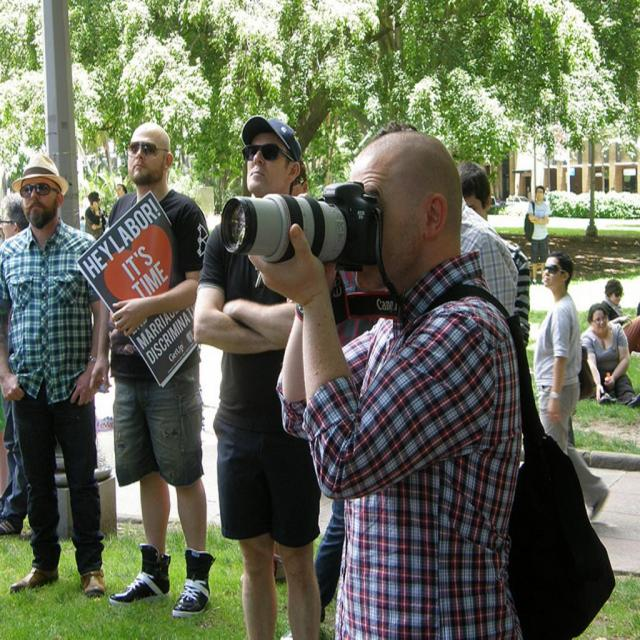nomask: (344, 153, 416, 291), (247, 133, 287, 191), (128, 126, 162, 182), (22, 179, 57, 226), (457, 185, 482, 228), (542, 256, 559, 286), (2, 209, 18, 239), (593, 312, 607, 333), (609, 288, 622, 304), (535, 187, 543, 200)
